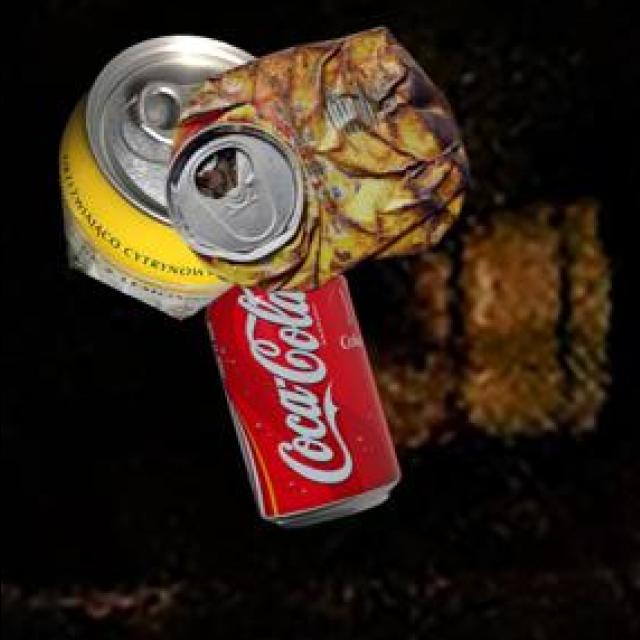logam: (169, 23, 473, 290), (62, 32, 258, 317), (209, 272, 404, 525)
